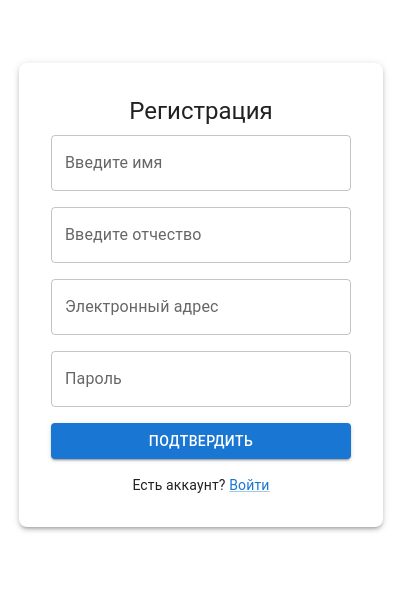
Test: Auth (Registration) › shows email and password validation errors
This screenshot has width=403, height=595.
In the field labelled "Электронный адрес": (201, 307) [51, 279, 351, 335], type "not-an-email"
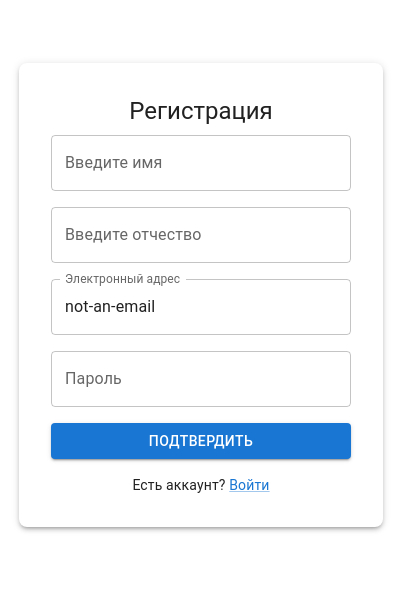
In the password field labelled "Пароль": (201, 379) [51, 351, 351, 407], type "123"
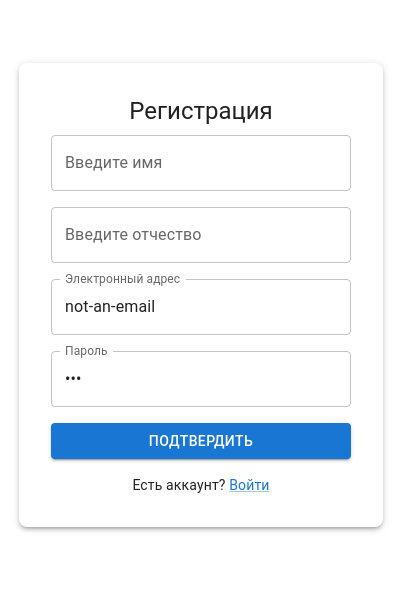
Click the button "Подтвердить": (201, 441) [51, 423, 351, 459]
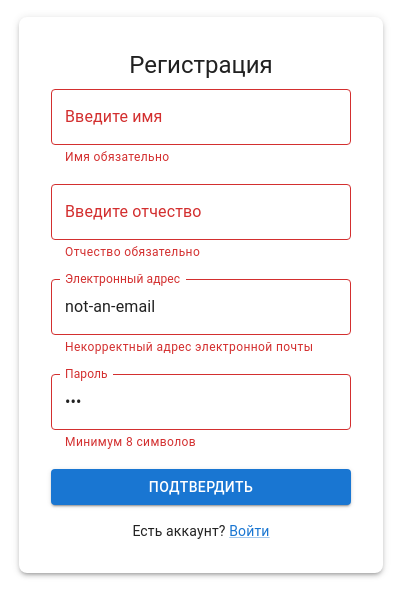
Expected: the text "Некорректный адрес электронной почты" is shown, [65, 338, 337, 358]
Expected: the text "Минимум 8 символов" is shown, [65, 435, 196, 449]
